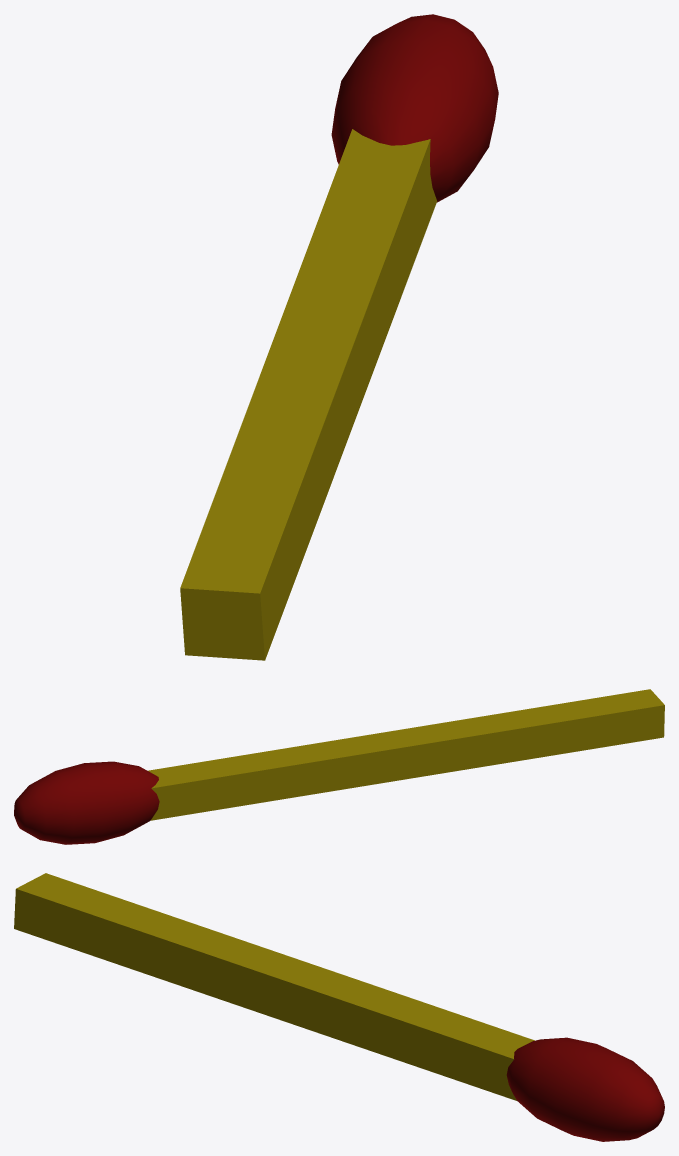
File: Matchstick.fbx
3 renders of one model, top to bottom at view 1: azimuth 30°, elevation 25°; view 2: azimuth 150°, elevation 25°; view 3: azimuth 270°, elevation 25°, orthographic. The views are drawn at different scales.
Visible parts, largest first — view 1: Cube; view 2: Cube; view 3: Cube.
Boxes of the visible parts, bbox=[...] form: Cube: bbox=[180, 14, 498, 660]; Cube: bbox=[14, 689, 664, 844]; Cube: bbox=[14, 873, 664, 1141].
Size of the model in its own units: 227 by 40 by 273.
